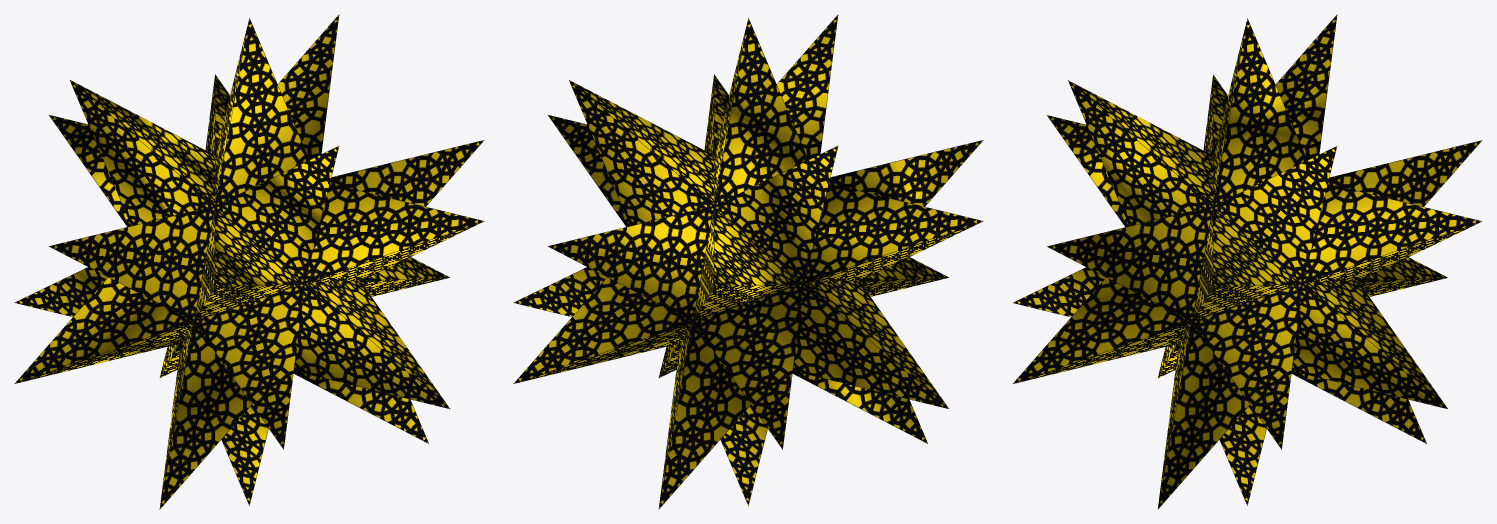
The model's file is great-stellated-dodecahedron.gltf.
The picture shows the model from 3 angles, left to right: view 1: azimuth 30°, elevation 25°; view 2: azimuth 150°, elevation 25°; view 3: azimuth 270°, elevation 25°; orthographic projection.
Parts seen in each view (by area): view 1: Mesh; view 2: Mesh; view 3: Mesh.
Part boxes in pixels (x1,y1,x2,y2): Mesh: (14,14,484,509); Mesh: (513,14,983,509); Mesh: (1013,14,1482,509).
Bounding box in the file's own units: 5.24 × 5.61 × 4.89.
Materials: 1 (1 with a texture image).
